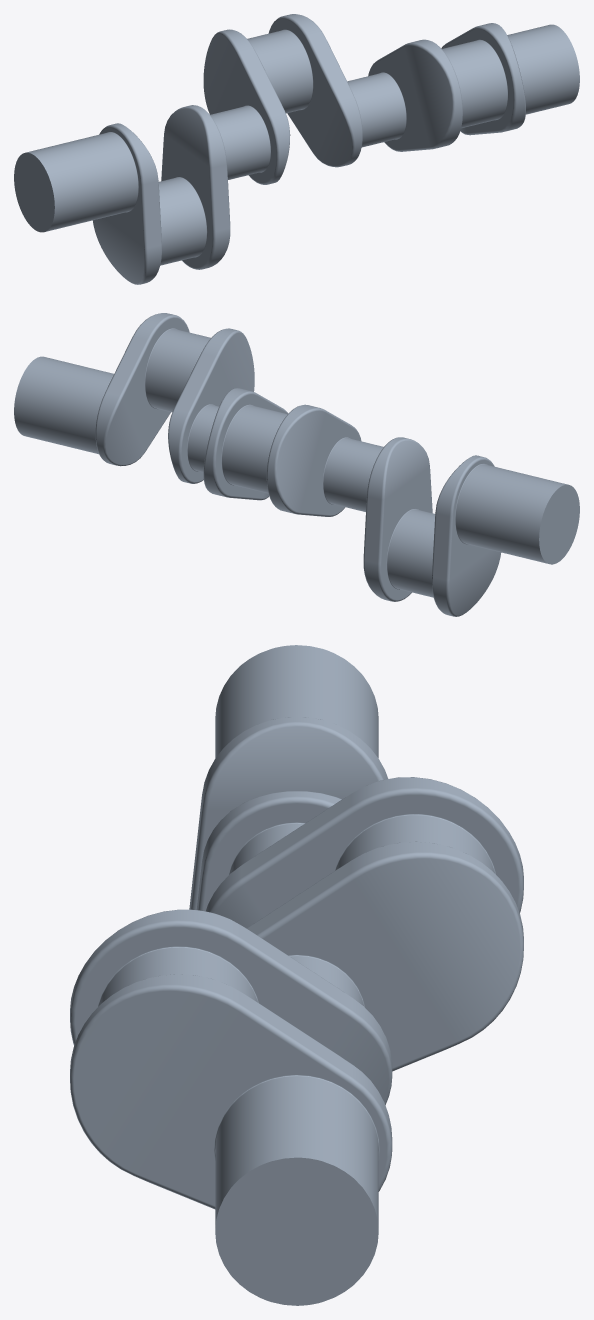
Rendered from crank_shaft.obj.
The picture shows the model from 3 angles, top to bottom: view 1: azimuth 30°, elevation 25°; view 2: azimuth 150°, elevation 25°; view 3: azimuth 270°, elevation 25°; orthographic projection. The views are drawn at different scales.
Parts seen in each view (by area): view 1: 1; view 2: 1; view 3: 1.
Boxes of the visible parts, x1=… form: 1: x1=14, y1=14, x2=579, y2=284; 1: x1=14, y1=313, x2=579, y2=616; 1: x1=70, y1=645, x2=523, y2=1305.
Bounding box in the file's own units: 565 × 197 × 212.
